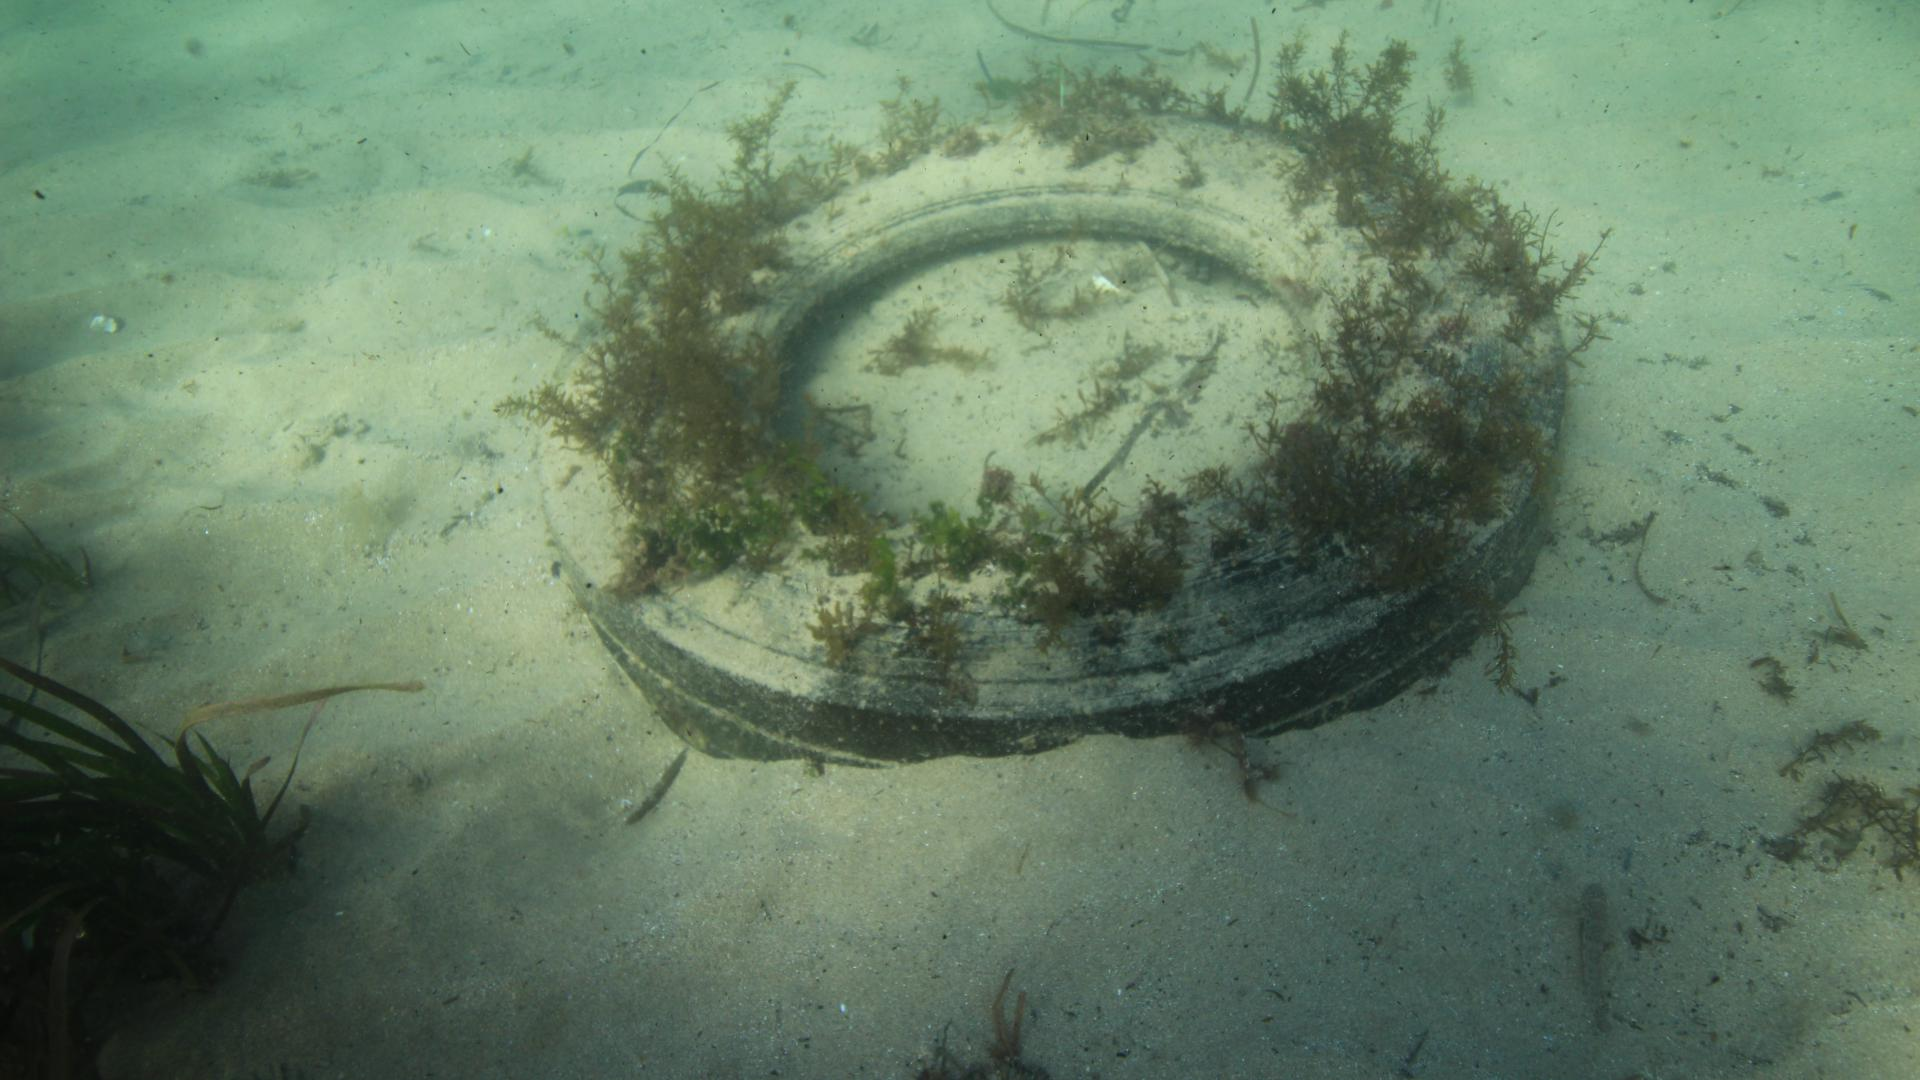tire: (533, 109, 1567, 766)
